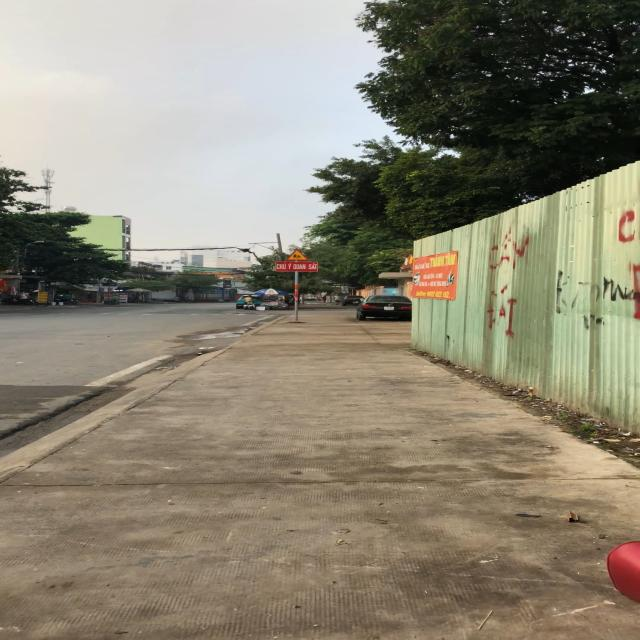Bien bao tre em: (285, 247, 310, 260)
